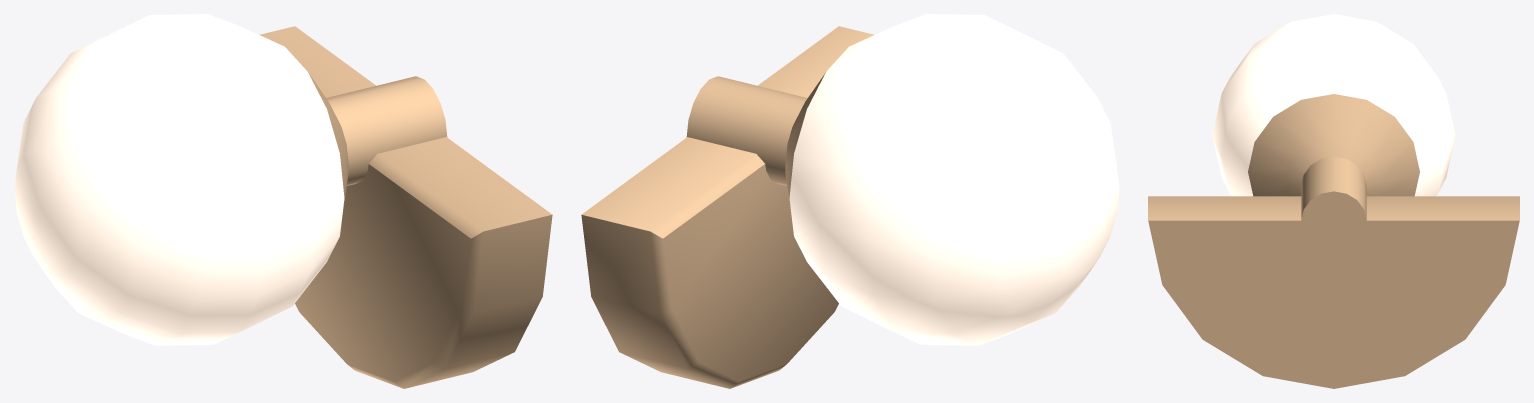
File: WallSconceA.glb
3 views of the same model, side by side, from view 1: azimuth 30°, elevation 25°; view 2: azimuth 150°, elevation 25°; view 3: azimuth 270°, elevation 25° (orthographic). The views are drawn at different scales.
Visible parts, largest first — view 1: WallSconce.012, WallSconce.011; view 2: WallSconce.012, WallSconce.011; view 3: WallSconce.011, WallSconce.012.
Boxes of the visible parts, x1,y1,x2,y2 form: WallSconce.012: (14,14,447,345); WallSconce.011: (259,26,552,388); WallSconce.012: (686,14,1119,345); WallSconce.011: (581,26,874,388); WallSconce.011: (1148,196,1519,388); WallSconce.012: (1212,14,1455,250).
Size of what is drawn, in the model's own units: 1.02 by 0.964 by 1.17.
